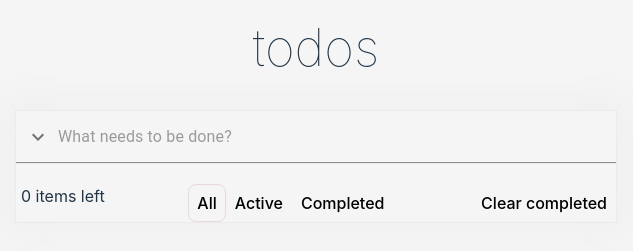
Test: MainPage › renders MainPage and adds a new todo
The width and height of the screenshot is (633, 251).
Step 1. Type "New Task" into the field with placeholder "What needs to be done?" → (332, 137), box [58,121,606,153]
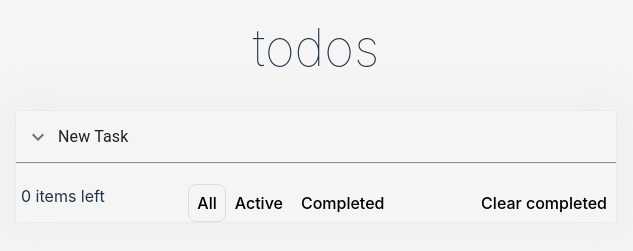
Step 2. Press Enter in the field with placeholder "What needs to be done?", box [58,121,606,153]
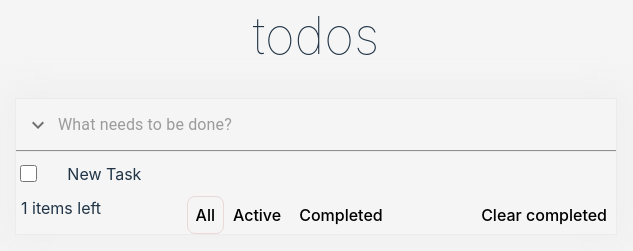
Now the text "New Task" is shown, box [67,162,141,186]
